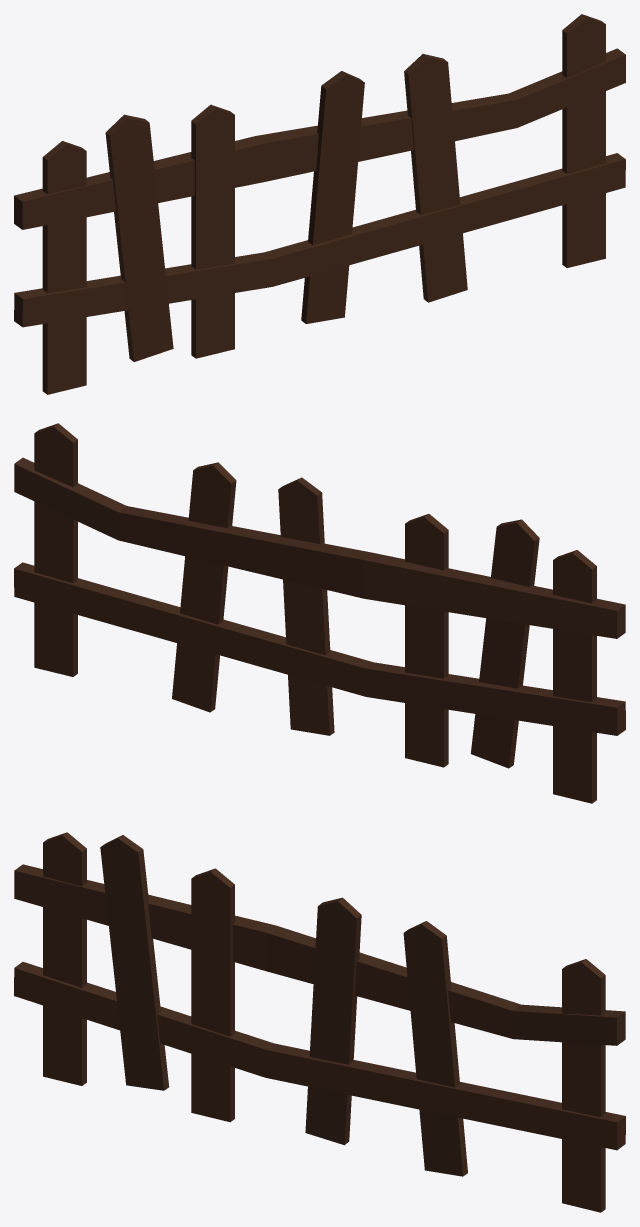
File: fance_wood.glb
3 views of the same model, one above another, from view 1: azimuth 30°, elevation 25°; view 2: azimuth 150°, elevation 25°; view 3: azimuth 330°, elevation 25° (orthographic).
Parts seen in each view (by area): view 1: fance.001; view 2: fance.001; view 3: fance.001.
Part boxes in pixels (bbox=[...]): fance.001: bbox=[14, 14, 625, 394]; fance.001: bbox=[14, 423, 625, 803]; fance.001: bbox=[14, 832, 625, 1212].
Size of the model in its own units: 4.88 by 2.02 by 0.2248.
1 material, 1 textured.
